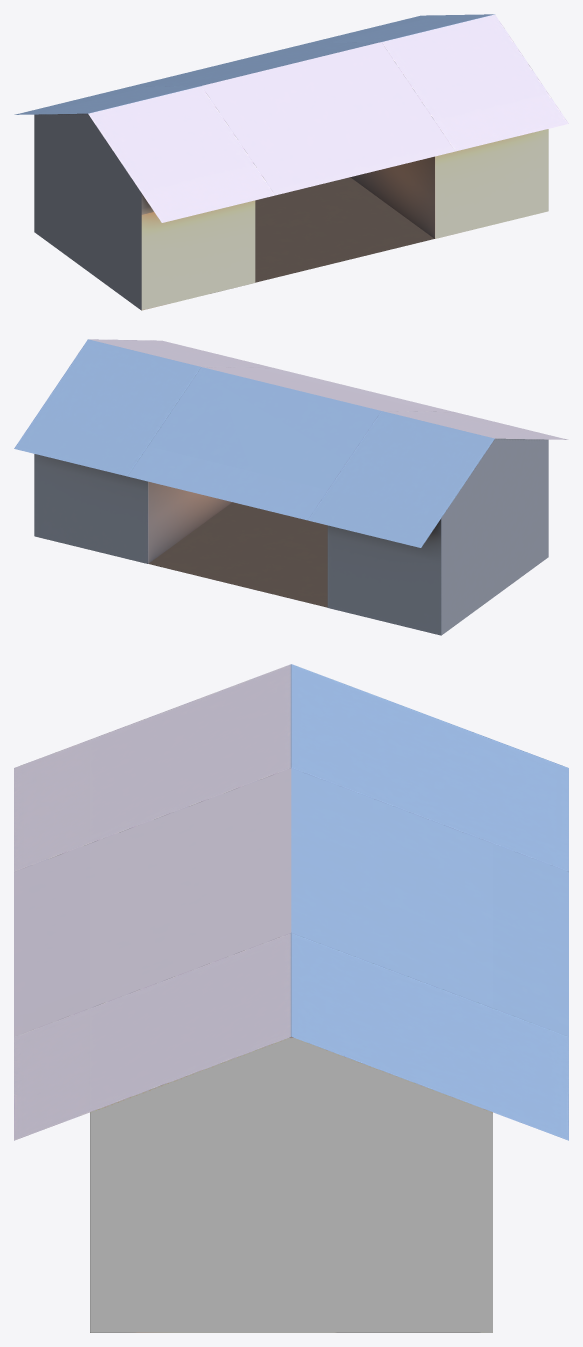
Rendered from entrance5.glb.
3 renders of one model, top to bottom at view 1: azimuth 30°, elevation 25°; view 2: azimuth 150°, elevation 25°; view 3: azimuth 270°, elevation 25°, orthographic. The views are drawn at different scales.
Parts seen in each view (by area): view 1: Cube.002 FIXE; view 2: Cube.002 FIXE; view 3: Cube.002 FIXE.
Boxes of the visible parts, x1,y1,x2,y2 form: Cube.002 FIXE: [14, 14, 568, 310]; Cube.002 FIXE: [14, 339, 568, 635]; Cube.002 FIXE: [14, 664, 568, 1332].
Bounding box in the file's own units: 10.21 × 3.79 × 6.42.
Materials: 3 (1 with a texture image).
